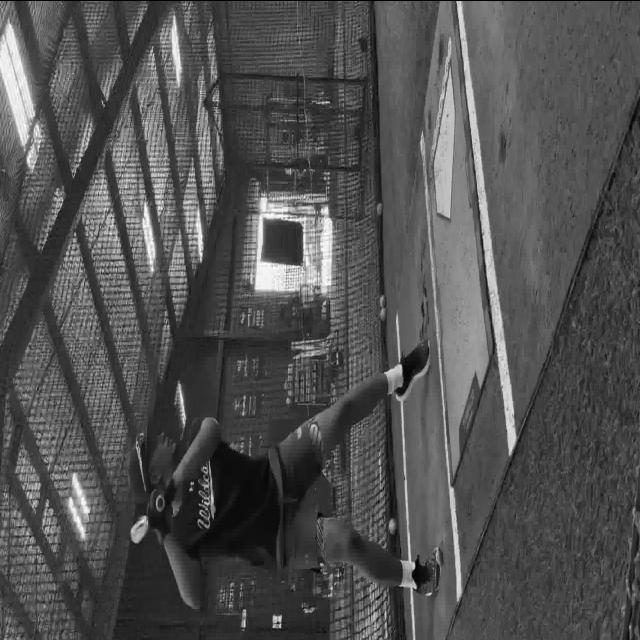base: (432, 60, 456, 216)
baseball: (388, 517, 398, 535), (379, 307, 386, 321), (380, 294, 386, 308), (377, 202, 382, 216)
bat: (130, 481, 176, 545)
shoe: (394, 338, 432, 402), (412, 546, 443, 596)
